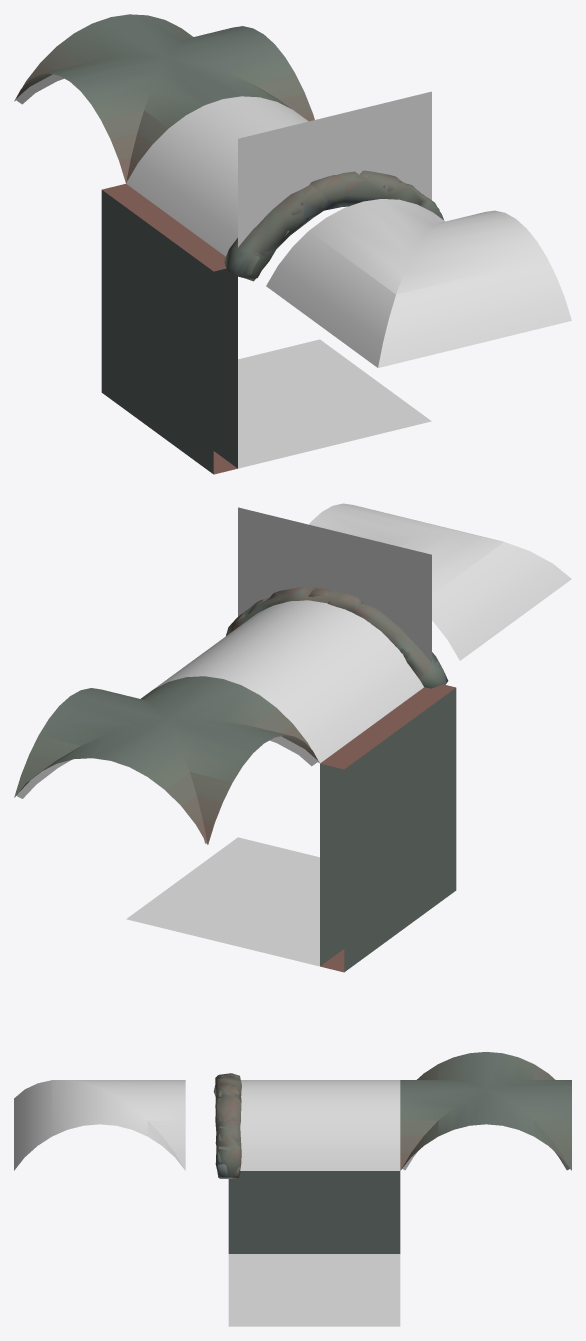
File: cellar_set.fbx
3 renders of one model, top to bottom at view 1: azimuth 30°, elevation 25°; view 2: azimuth 150°, elevation 25°; view 3: azimuth 270°, elevation 25°, orthographic. The views are drawn at different scales.
Visible parts, largest first — view 1: cellar_ceiling_corner, cellar_wall, cellar_ceiling_4way, cellar_floor, cellar_ceiling_cap, cellar_ceiling_straight, cellar_ceiling_arch_COL, cellar_ceiling_arch; view 2: cellar_wall, cellar_ceiling_4way, cellar_ceiling_straight, cellar_floor, cellar_ceiling_cap, cellar_ceiling_corner, cellar_ceiling_arch_COL, slats; view 3: cellar_ceiling_straight, cellar_wall, cellar_ceiling_4way, cellar_floor, cellar_ceiling_corner, cellar_ceiling_arch_COL, cellar_ceiling_arch.
Boxes of the visible parts, x1,y1,x2,y2 form: cellar_ceiling_corner: (266, 199, 571, 367); cellar_wall: (101, 183, 237, 474); cellar_ceiling_4way: (14, 14, 314, 182); cellar_floor: (238, 339, 431, 468); cellar_ceiling_cap: (238, 91, 431, 247); cellar_ceiling_straight: (126, 96, 308, 256); cellar_ceiling_arch_COL: (224, 170, 442, 277); cellar_ceiling_arch: (240, 175, 443, 281); cellar_wall: (320, 684, 456, 972); cellar_ceiling_4way: (14, 676, 319, 844); cellar_ceiling_straight: (153, 600, 423, 763); cellar_floor: (126, 837, 319, 966); cellar_ceiling_cap: (238, 507, 431, 663); cellar_ceiling_corner: (309, 503, 571, 660); cellar_ceiling_arch_COL: (227, 586, 448, 688); slats: (16, 736, 318, 843); cellar_ceiling_straight: (240, 1080, 400, 1170); cellar_wall: (228, 1171, 400, 1253); cellar_ceiling_4way: (400, 1052, 571, 1170); cellar_floor: (228, 1254, 400, 1326); cellar_ceiling_corner: (14, 1080, 185, 1170); cellar_ceiling_arch_COL: (213, 1073, 241, 1178); cellar_ceiling_arch: (216, 1075, 241, 1178).
Bounding box in the file's own units: 944 × 1300 × 2600.
